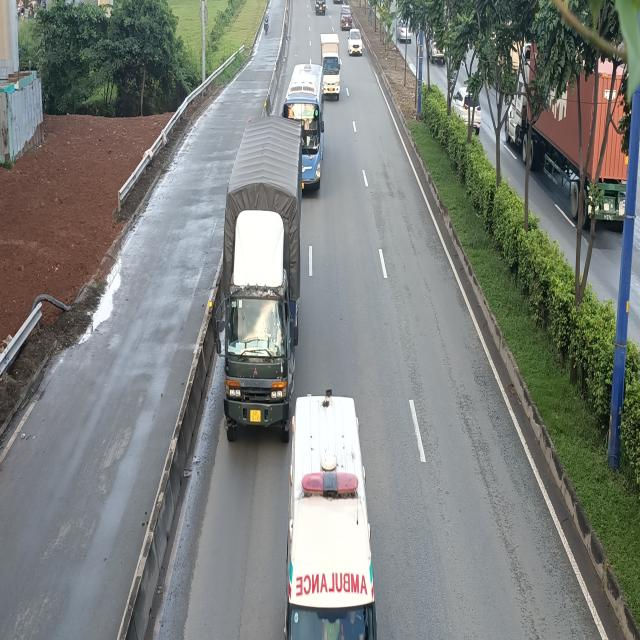coach: (281, 64, 323, 195)
truck: (222, 118, 306, 436), (321, 34, 342, 101)
van: (276, 389, 374, 636)
